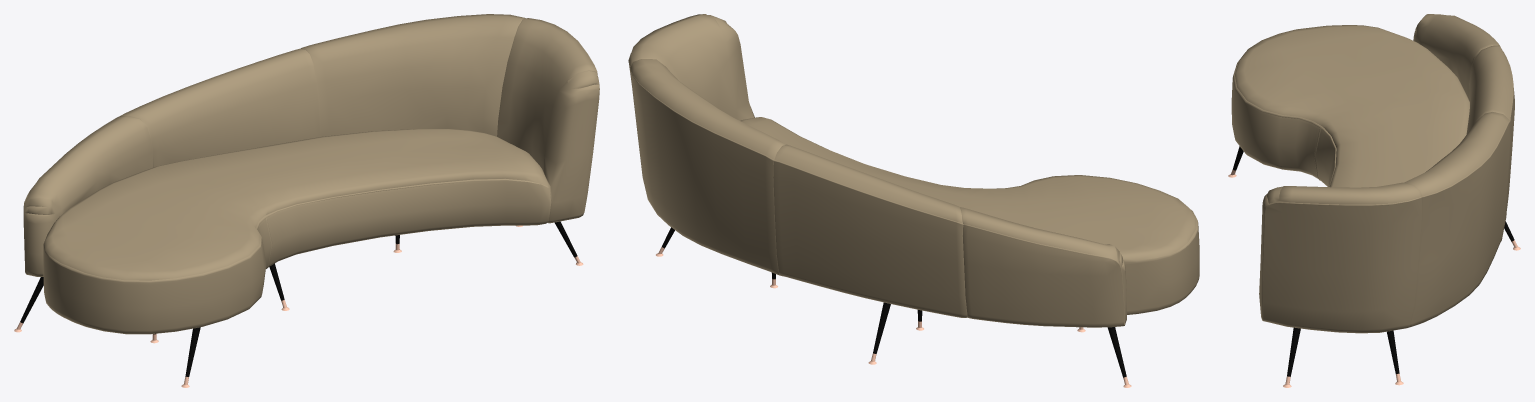
Rendered from glam_velvet_sofa.obj.
3 views of the same model, side by side, from view 1: azimuth 30°, elevation 25°; view 2: azimuth 150°, elevation 25°; view 3: azimuth 270°, elevation 25° (orthographic). The views are drawn at different scales.
Size of the model in its own units: 2.19 by 0.7875 by 1.02.
